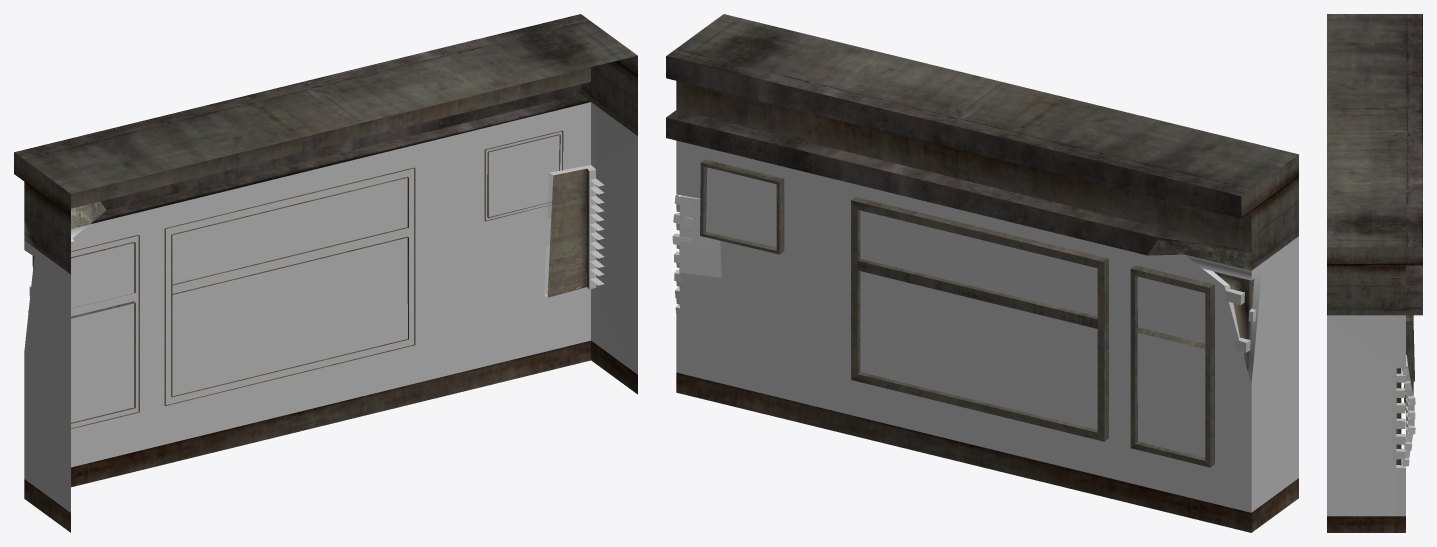
Rendered from Store_front_16_B.fbx.
3 views of the same model, side by side, from view 1: azimuth 30°, elevation 25°; view 2: azimuth 150°, elevation 25°; view 3: azimuth 270°, elevation 25° (orthographic). The views are drawn at different scales.
Parts seen in each view (by area): view 1: Store_front_16_B; view 2: Store_front_16_B; view 3: Store_front_16_B.
Part boxes in pixels (x1,y1,x2,y2): Store_front_16_B: (14,14,637,532); Store_front_16_B: (666,14,1298,532); Store_front_16_B: (1327,14,1422,532).
Bounding box in the file's own units: 700 × 400 × 122.
